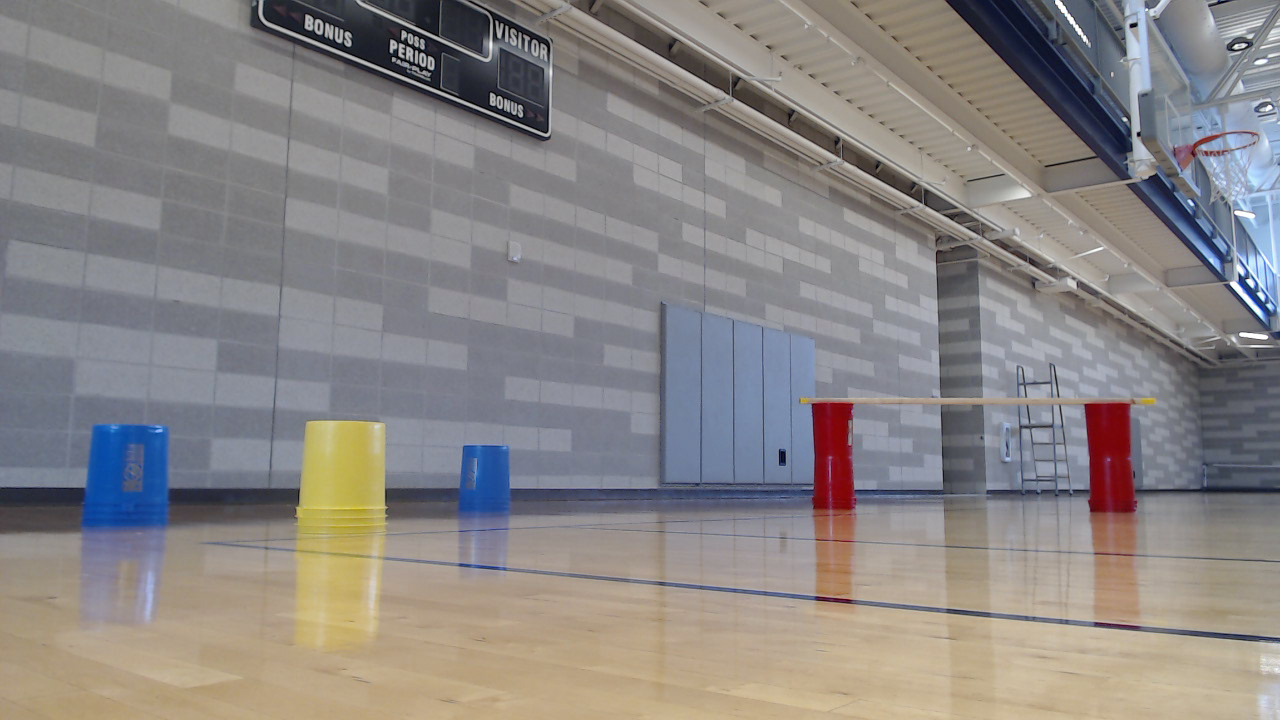blue_bucket: (80, 425, 178, 540), (459, 447, 519, 524)
red_bucket_arch: (810, 399, 1148, 522)
yellow_bucket: (296, 421, 398, 541)
